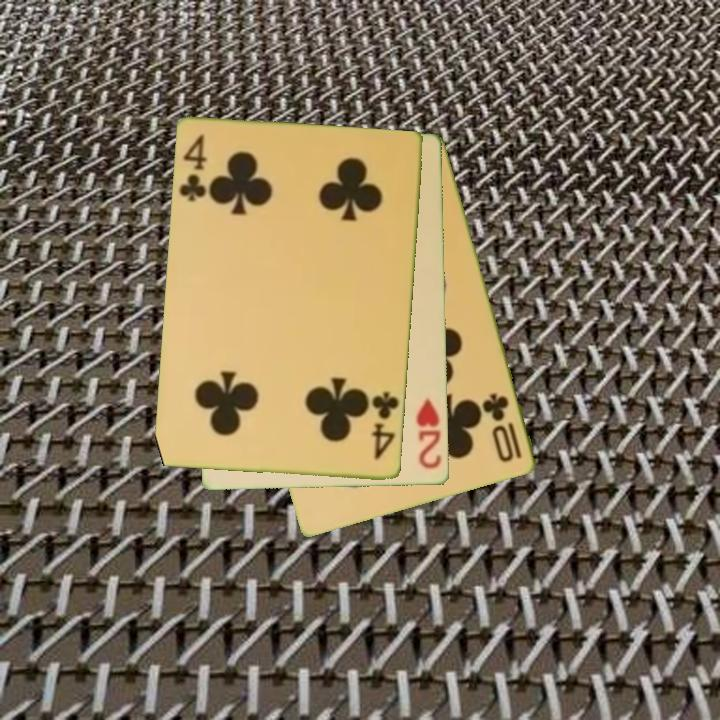10c: (480, 390, 525, 466)
2h: (414, 396, 445, 472)
4c: (176, 131, 210, 205), (369, 388, 402, 463)
